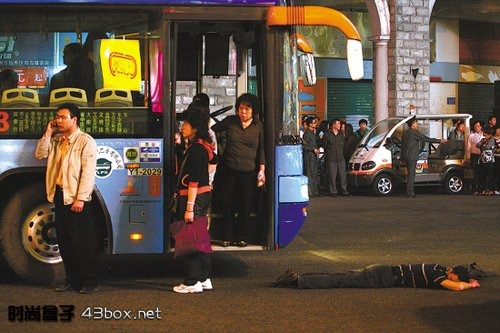10+: (5, 25, 500, 304)
down: (273, 249, 497, 298)
